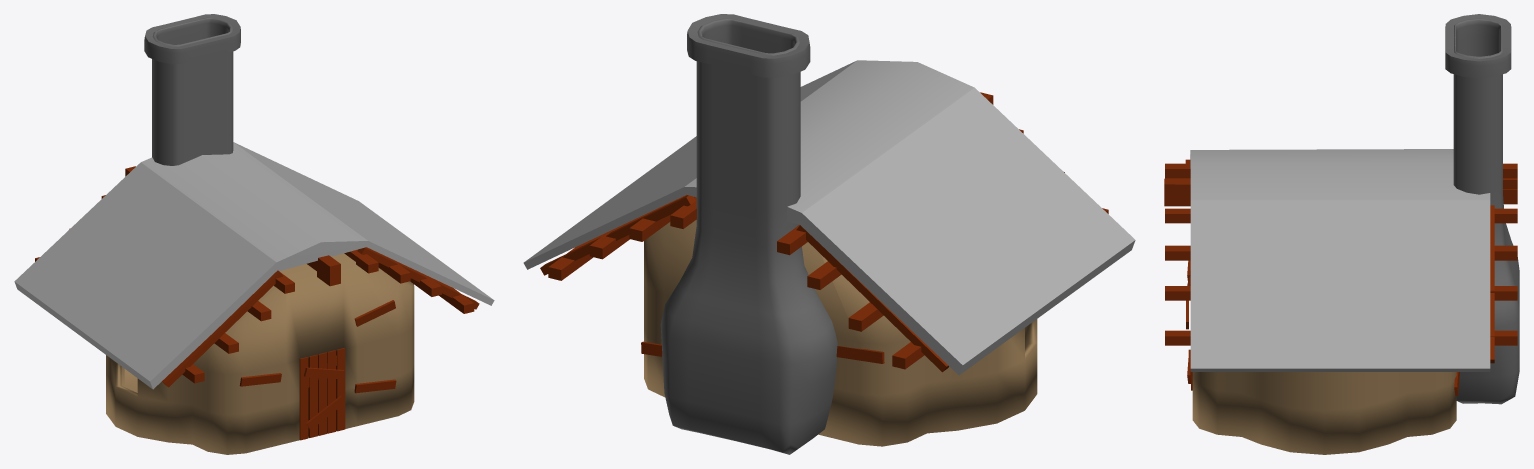
The model's file is MaisonBertie.fbx.
3 renders of one model, left to right at view 1: azimuth 30°, elevation 25°; view 2: azimuth 150°, elevation 25°; view 3: azimuth 270°, elevation 25°, orthographic. The views are drawn at different scales.
Parts seen in each view (by area): view 1: pCube1, Murs, Cube, Poutre.006, Porte.005; view 2: pCube1, Cube, Murs, Poutre.006, Porte.016; view 3: pCube1, Murs, Cube, Poutre.006.
Boxes of the visible parts, <box> form: pCube1: <box>14,142,494,389</box>; Murs: <box>106,253,414,454</box>; Cube: <box>144,14,240,165</box>; Poutre.006: <box>35,166,479,387</box>; Porte.005: <box>299,348,345,440</box>; pCube1: <box>523,60,1135,375</box>; Cube: <box>660,14,837,454</box>; Murs: <box>644,220,1037,446</box>; Poutre.006: <box>540,92,1108,372</box>; Porte.016: <box>836,346,884,363</box>; pCube1: <box>1190,149,1490,371</box>; Murs: <box>1192,372,1456,454</box>; Cube: <box>1445,14,1519,404</box>; Poutre.006: <box>1164,159,1517,363</box>.
Bounding box in the file's own units: 547 × 472 × 442.
